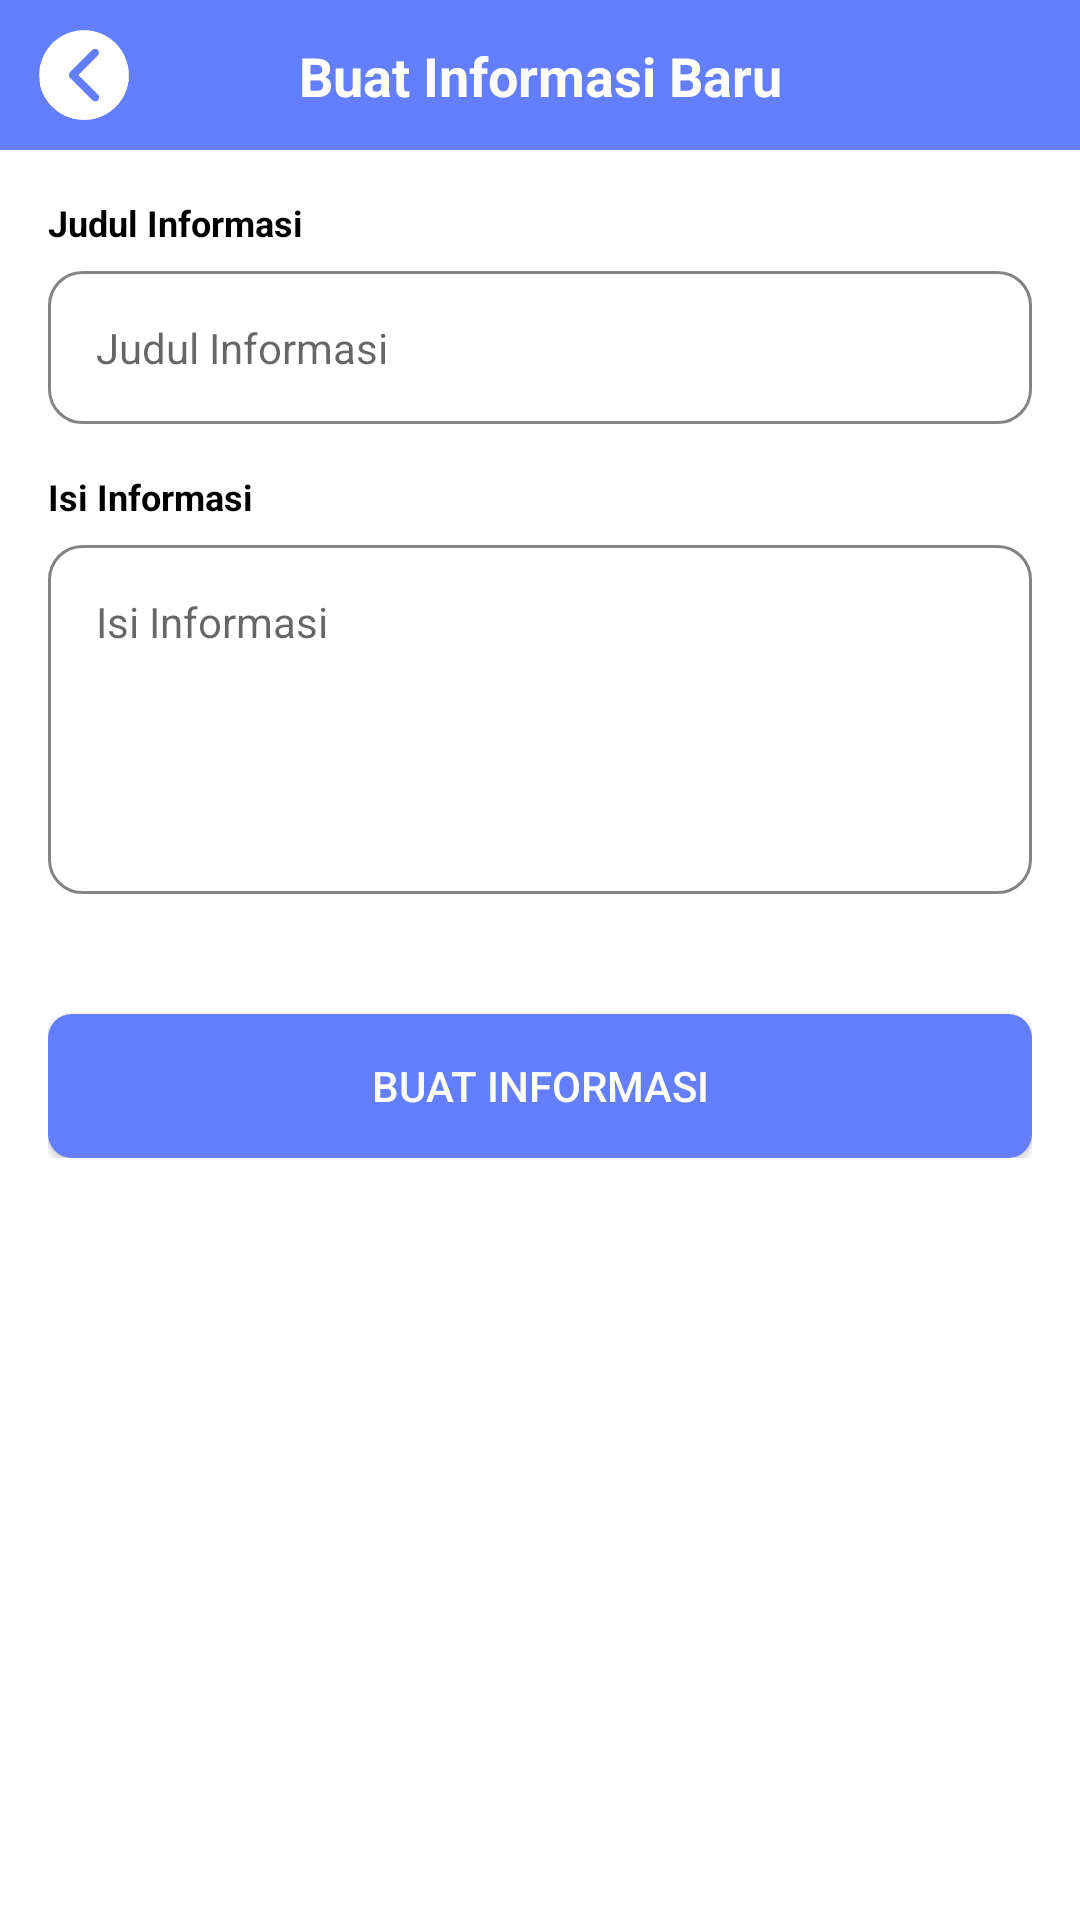

Named icons in this screenshot (1080 x 1920) and their bounding boxes, bbox=(x1, y1, x2, y2):
Kembali: bbox=(39, 30, 129, 120)
